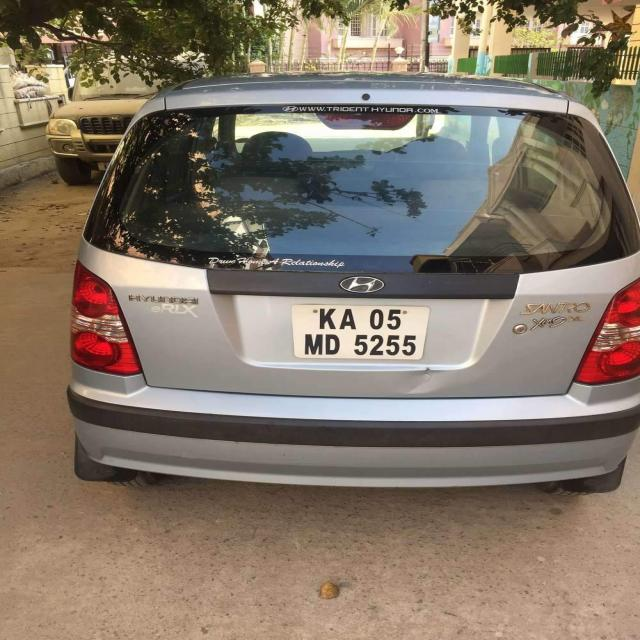Number-Plate: (287, 304, 428, 363)
